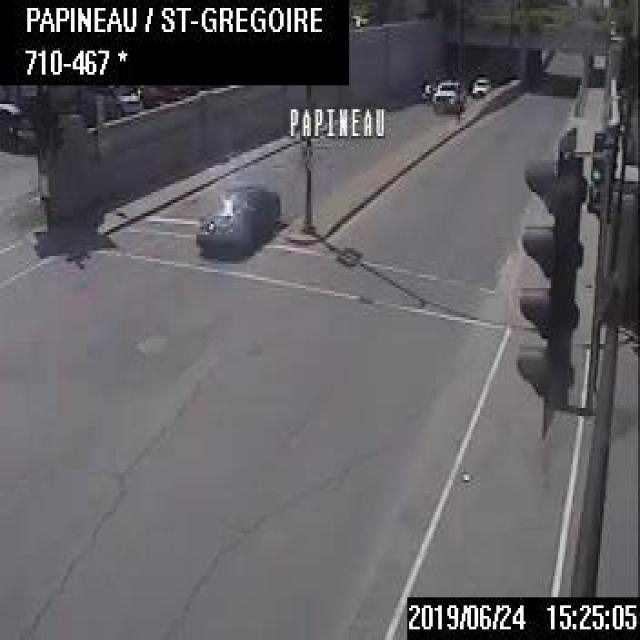vehicle: (196, 185, 280, 256), (0, 100, 40, 153), (429, 72, 464, 112), (103, 84, 140, 118), (469, 72, 493, 98)
